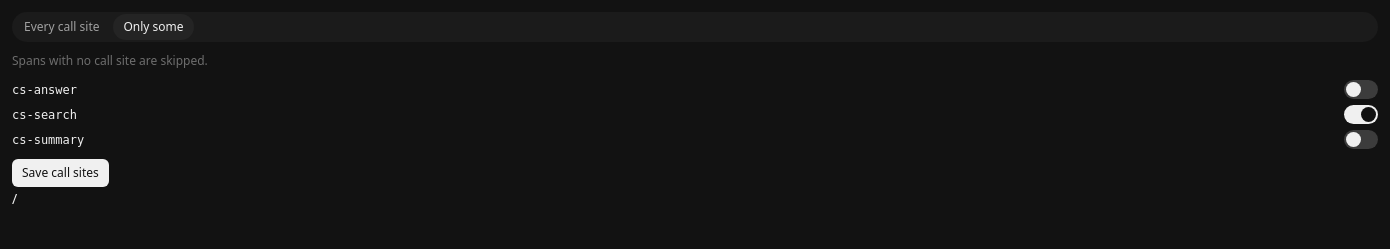
Scenario: CallSitesSection › does not save a list with nothing picked
Click the switch named "Run on cs-search" at (1361, 114), box [1344,105,1378,124]
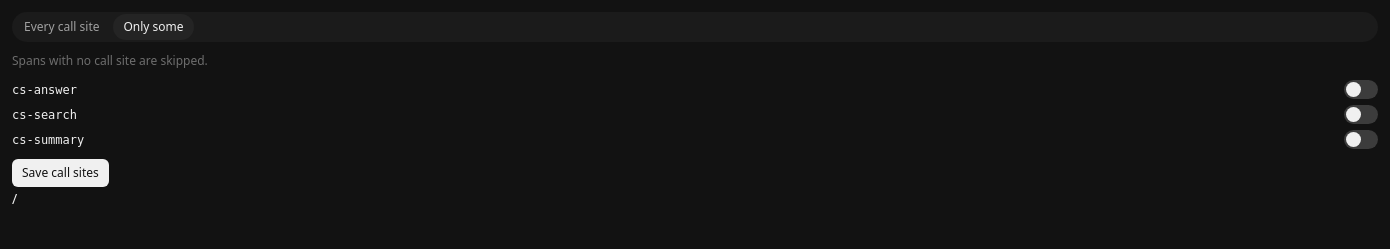
Click the button "Save call sites" at (60, 173), box [12,159,109,187]
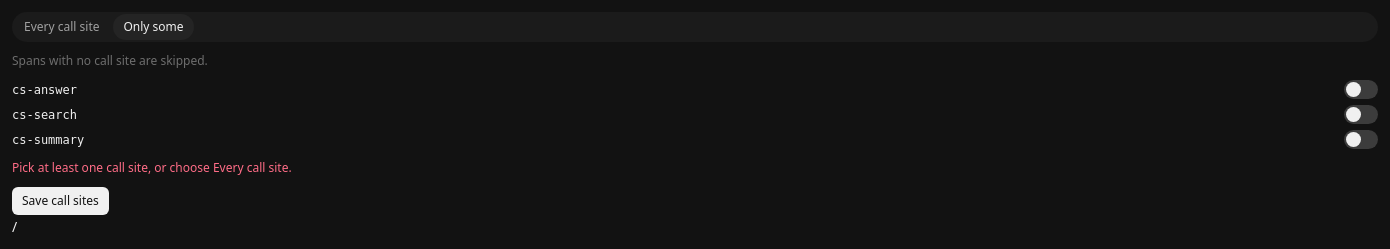
Check: the message reads "Pick at least one call site, or choose Every call site.", box [12,159,292,176]
